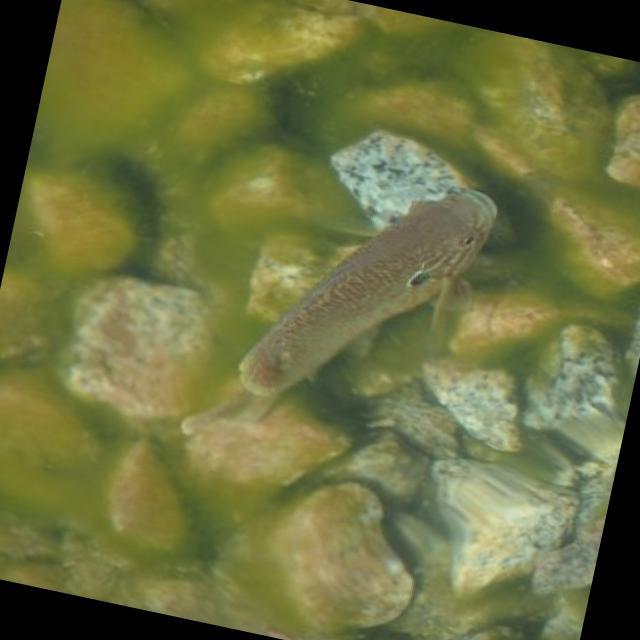Gunes Levregi: (179, 140, 518, 478)
